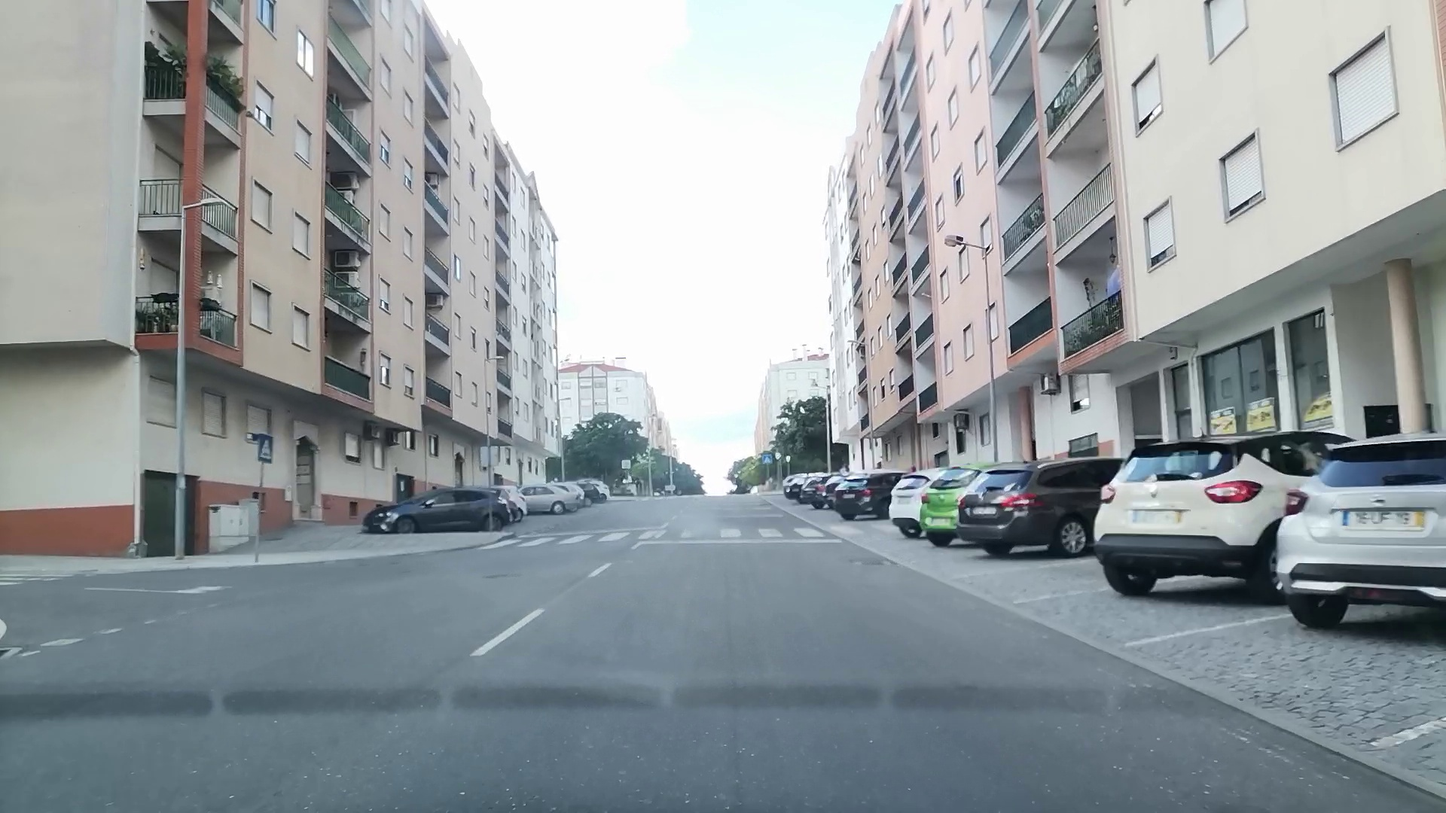Stairs: (475, 527, 827, 549)
